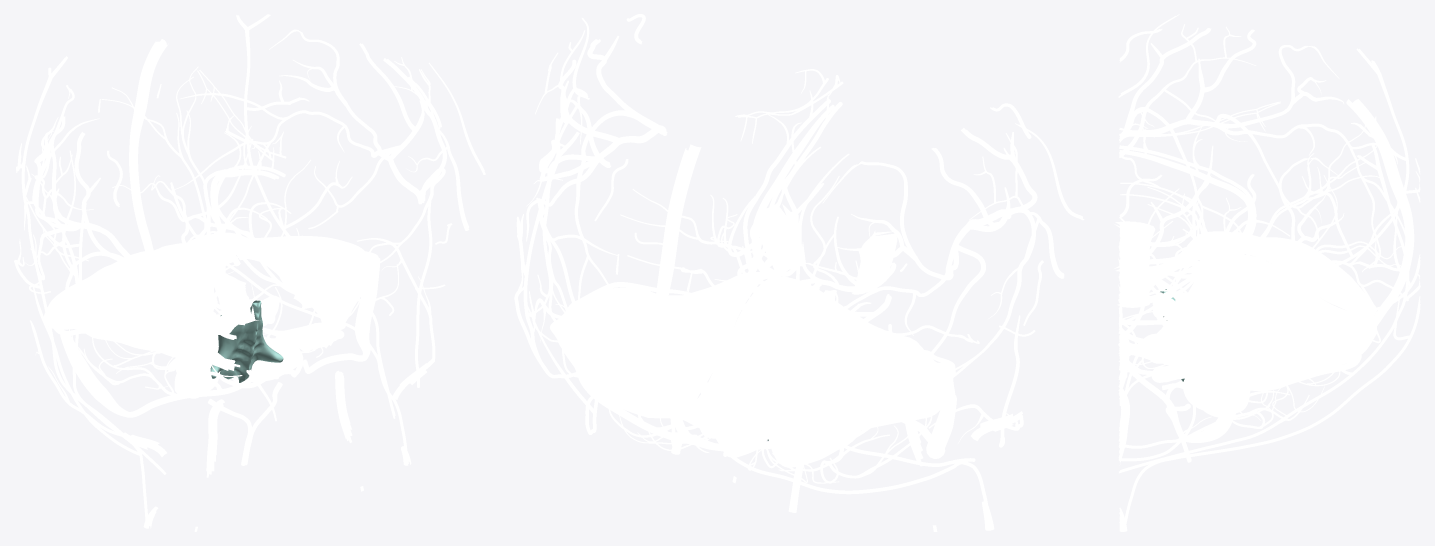
The model's file is cerebellum_full.glb.
The picture shows the model from 3 angles, left to right: view 1: azimuth 30°, elevation 25°; view 2: azimuth 150°, elevation 25°; view 3: azimuth 270°, elevation 25°; orthographic projection. The views are drawn at different scales.
Parts seen in each view (by area): view 1: Tentorium cerebelli.r, Tentorium cerebelli.l, Fourth ventricle, Superior sagittal sinus.001, Occipital artery.l.001, Superficial temporal artery.r.001, Occipital artery.r.001, Superficial temporal artery.l.001, Posterior cerebral artery.r.001, Posterior cerebral artery.l.001, Base of peduncle.l, Sigmoid sinus.r.001 (+29 smaller); view 2: Tentorium cerebelli.r, Tentorium cerebelli.l, Superior sagittal sinus.001, Occipital artery.r.001, Posterior cerebral artery.r.001, Superficial temporal artery.r.001, Occipital artery.l.001, Occipital vein.r.001, Posterior parietal artery.r.001, Pericallosal artery.r.001, Base of peduncle.l, Posterior inferior cerebellar artery.r.001 (+26 smaller); view 3: Tentorium cerebelli.l, Tentorium cerebelli.r, Superior sagittal sinus.001, Occipital artery.l.001, Superficial temporal artery.l.001, Posterior cerebral artery.l.001, Occipital vein.l.001, Pericallosal artery.l.001, Tonsil of cerebellum.l, Occipital artery.r.001, Posterior parietal artery.l.001, Pericallosal artery.r.001 (+32 smaller).
Boxes of the visible parts, x1=… form: Tentorium cerebelli.r: x1=44, y1=235, x2=240, y2=370; Tentorium cerebelli.l: x1=155, y1=232, x2=379, y2=348; Fourth ventricle: x1=210, y1=300, x2=283, y2=382; Superior sagittal sinus.001: x1=129, y1=39, x2=168, y2=250; Occipital artery.l.001: x1=225, y1=14, x2=395, y2=418; Superficial temporal artery.r.001: x1=24, y1=143, x2=166, y2=456; Occipital artery.r.001: x1=14, y1=56, x2=166, y2=474; Superficial temporal artery.l.001: x1=357, y1=57, x2=469, y2=399; Posterior cerebral artery.r.001: x1=105, y1=207, x2=267, y2=369; Posterior cerebral artery.l.001: x1=247, y1=202, x2=398, y2=315; Base of peduncle.l: x1=293, y1=253, x2=331, y2=309; Sigmoid sinus.r.001: x1=60, y1=333, x2=127, y2=416; Tentorium cerebelli.r: x1=681, y1=276, x2=955, y2=439; Tentorium cerebelli.l: x1=550, y1=272, x2=765, y2=418; Superior sagittal sinus.001: x1=653, y1=144, x2=701, y2=443; Occipital artery.r.001: x1=769, y1=183, x2=975, y2=466; Posterior cerebral artery.r.001: x1=798, y1=153, x2=979, y2=343; Superficial temporal artery.r.001: x1=928, y1=133, x2=1064, y2=443; Occipital artery.l.001: x1=514, y1=118, x2=579, y2=378; Occipital vein.r.001: x1=686, y1=271, x2=990, y2=523; Posterior parietal artery.r.001: x1=822, y1=161, x2=958, y2=280; Pericallosal artery.r.001: x1=738, y1=75, x2=843, y2=276; Base of peduncle.l: x1=759, y1=203, x2=810, y2=272; Posterior inferior cerebellar artery.r.001: x1=731, y1=416, x2=932, y2=483; Tentorium cerebelli.l: x1=1118, y1=253, x2=1376, y2=390; Tentorium cerebelli.r: x1=1118, y1=232, x2=1376, y2=316; Superior sagittal sinus.001: x1=1346, y1=99, x2=1414, y2=326; Occipital artery.l.001: x1=1119, y1=143, x2=1420, y2=473; Superficial temporal artery.l.001: x1=1119, y1=193, x2=1290, y2=455; Posterior cerebral artery.l.001: x1=1119, y1=194, x2=1323, y2=372; Occipital vein.l.001: x1=1124, y1=187, x2=1420, y2=525; Pericallosal artery.l.001: x1=1119, y1=102, x2=1280, y2=256; Tonsil of cerebellum.l: x1=1183, y1=375, x2=1250, y2=414; Occipital artery.r.001: x1=1118, y1=48, x2=1420, y2=361; Posterior parietal artery.l.001: x1=1215, y1=157, x2=1344, y2=283; Pericallosal artery.r.001: x1=1119, y1=101, x2=1280, y2=241.
Bounding box in the file's own units: 0.1578 × 0.1407 × 0.1025.
